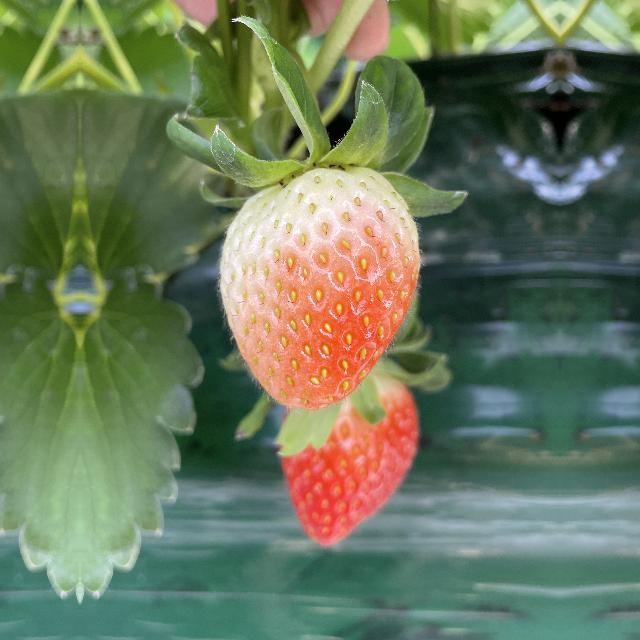Health_100: (278, 378, 424, 544)
Health_75: (220, 158, 428, 414)
